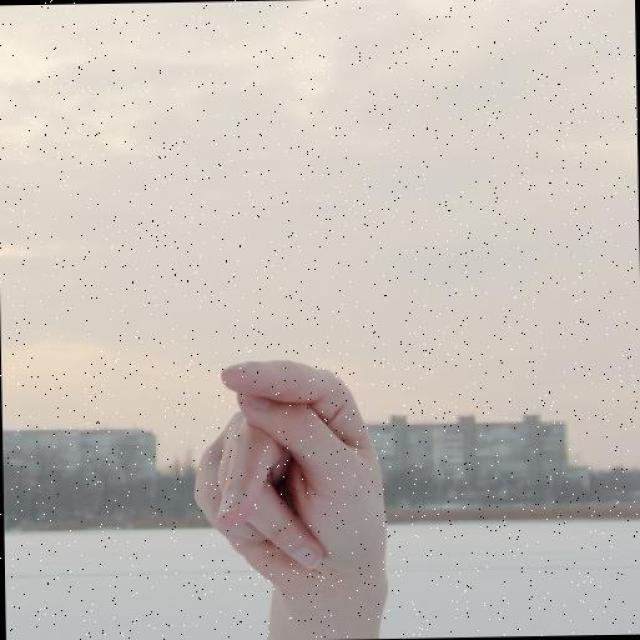P: (135, 322, 429, 640)
